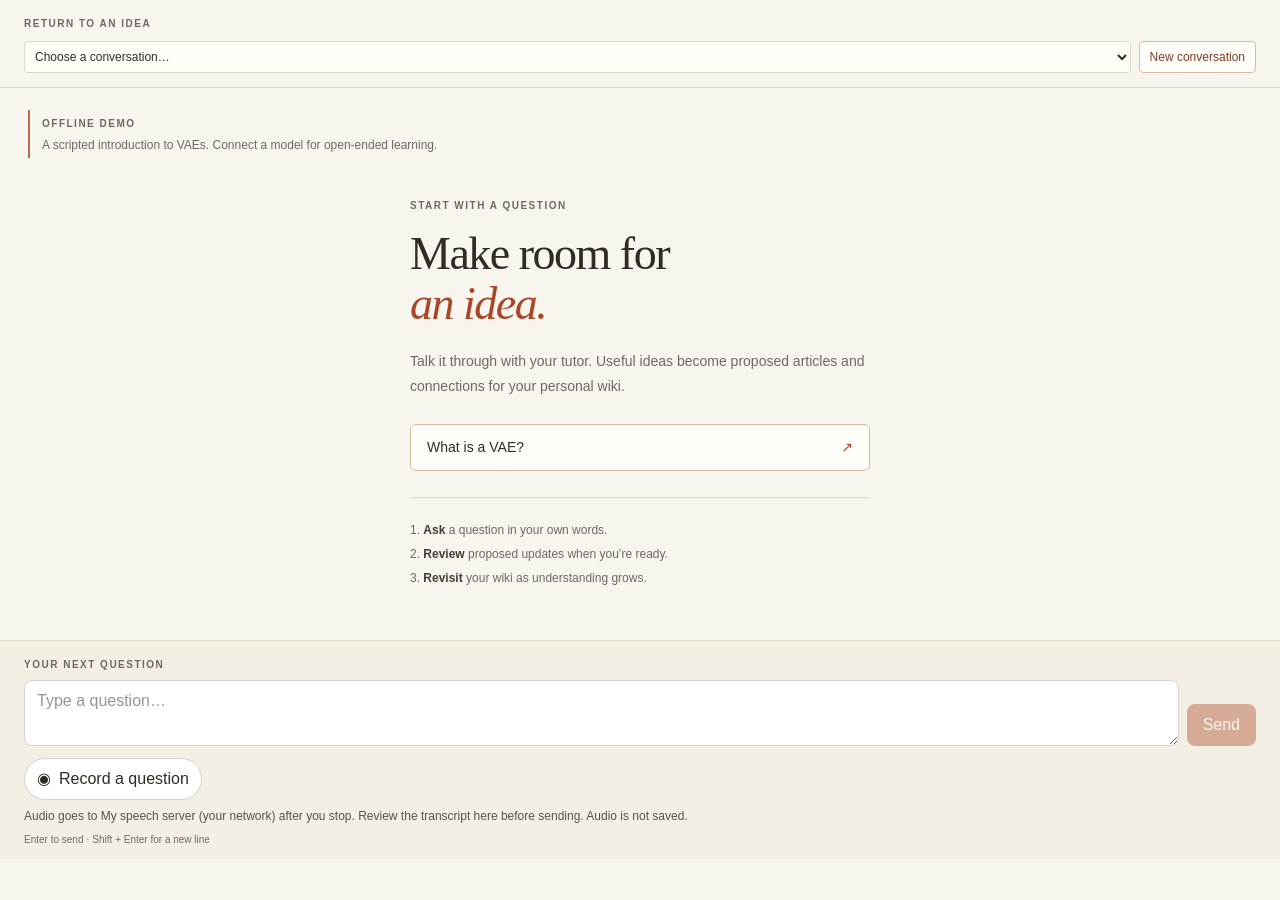
Test: two-minute automatic stop transcribes once and never sends
Click the button "◉ Record a question".
click(113, 779)  # box [24, 758, 202, 800]
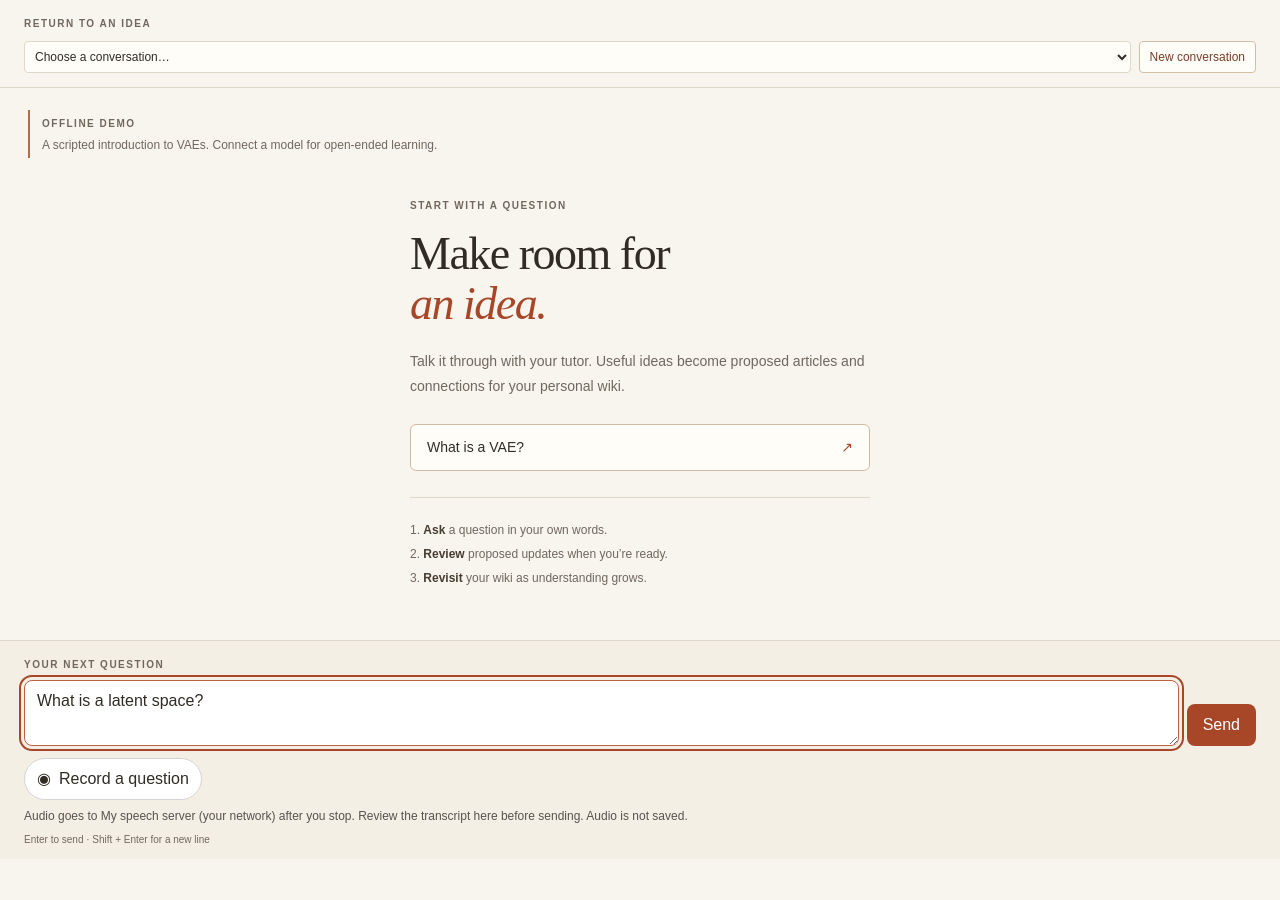
Now the text box labelled "Your next question" holds "What is a latent space?", box [24, 680, 1179, 746]
